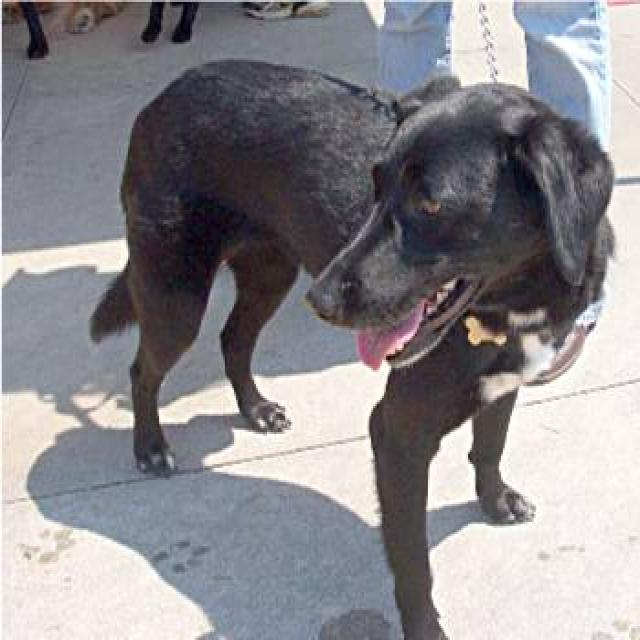Dogs: (88, 56, 616, 638)
